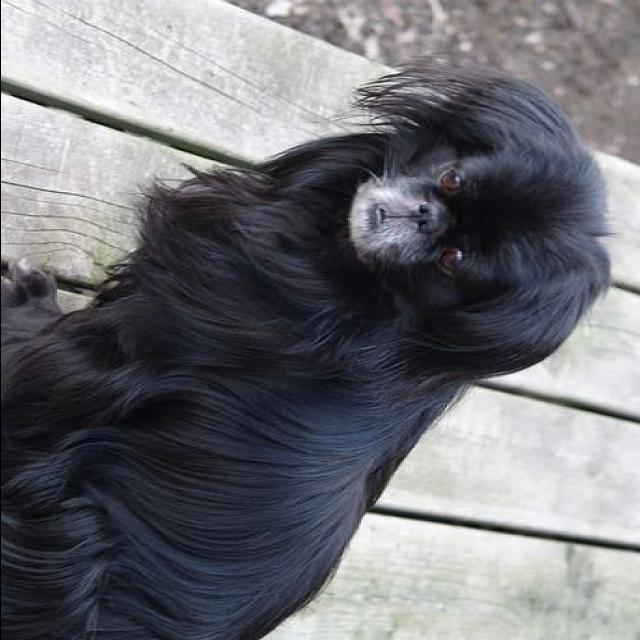pekinese: (4, 61, 606, 640)
